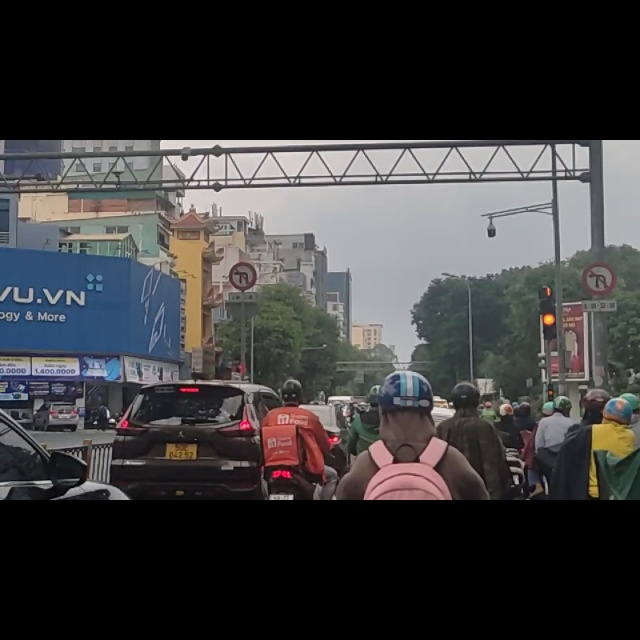bien_cam: (581, 216, 618, 275), (230, 211, 258, 265)
